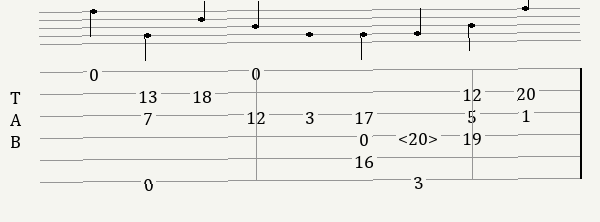0: (89, 62, 103, 78), (143, 172, 157, 188), (251, 62, 265, 78), (359, 128, 373, 144)
1: (521, 106, 535, 122)
12: (246, 106, 270, 122), (462, 84, 486, 100)
13: (138, 84, 162, 100)
16: (354, 150, 378, 166)
17: (354, 106, 378, 123)
18: (192, 84, 216, 100)
19: (462, 128, 486, 144)
20: (516, 84, 540, 100)
3: (305, 106, 319, 122), (413, 172, 427, 188)
5: (467, 106, 481, 123)
7: (143, 106, 157, 123)
harmonic: (398, 128, 442, 144)
